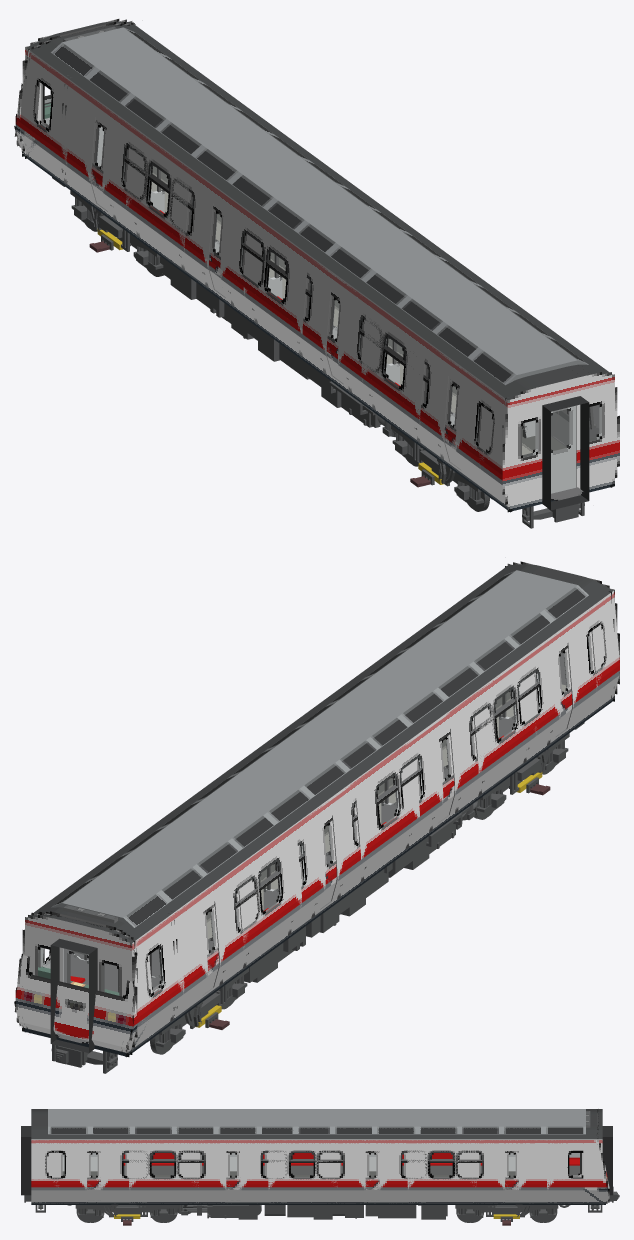
File: dkz4.glb
3 renders of one model, top to bottom at view 1: azimuth 30°, elevation 25°; view 2: azimuth 150°, elevation 25°; view 3: azimuth 270°, elevation 25°, orthographic. The views are drawn at different scales.
Visible parts, largest first — view 1: cube (×35); view 2: cube (×34); view 3: cube (×70).
Part boxes in pixels (x1,y1,x2,y2): cube (×35): (20, 27, 619, 512); cube (×34): (14, 570, 619, 1054); cube (×70): (21, 1109, 612, 1219).
Bounding box in the file's own units: 3.25 × 3.72 × 21.75.
Materials: 1 (1 with a texture image).
